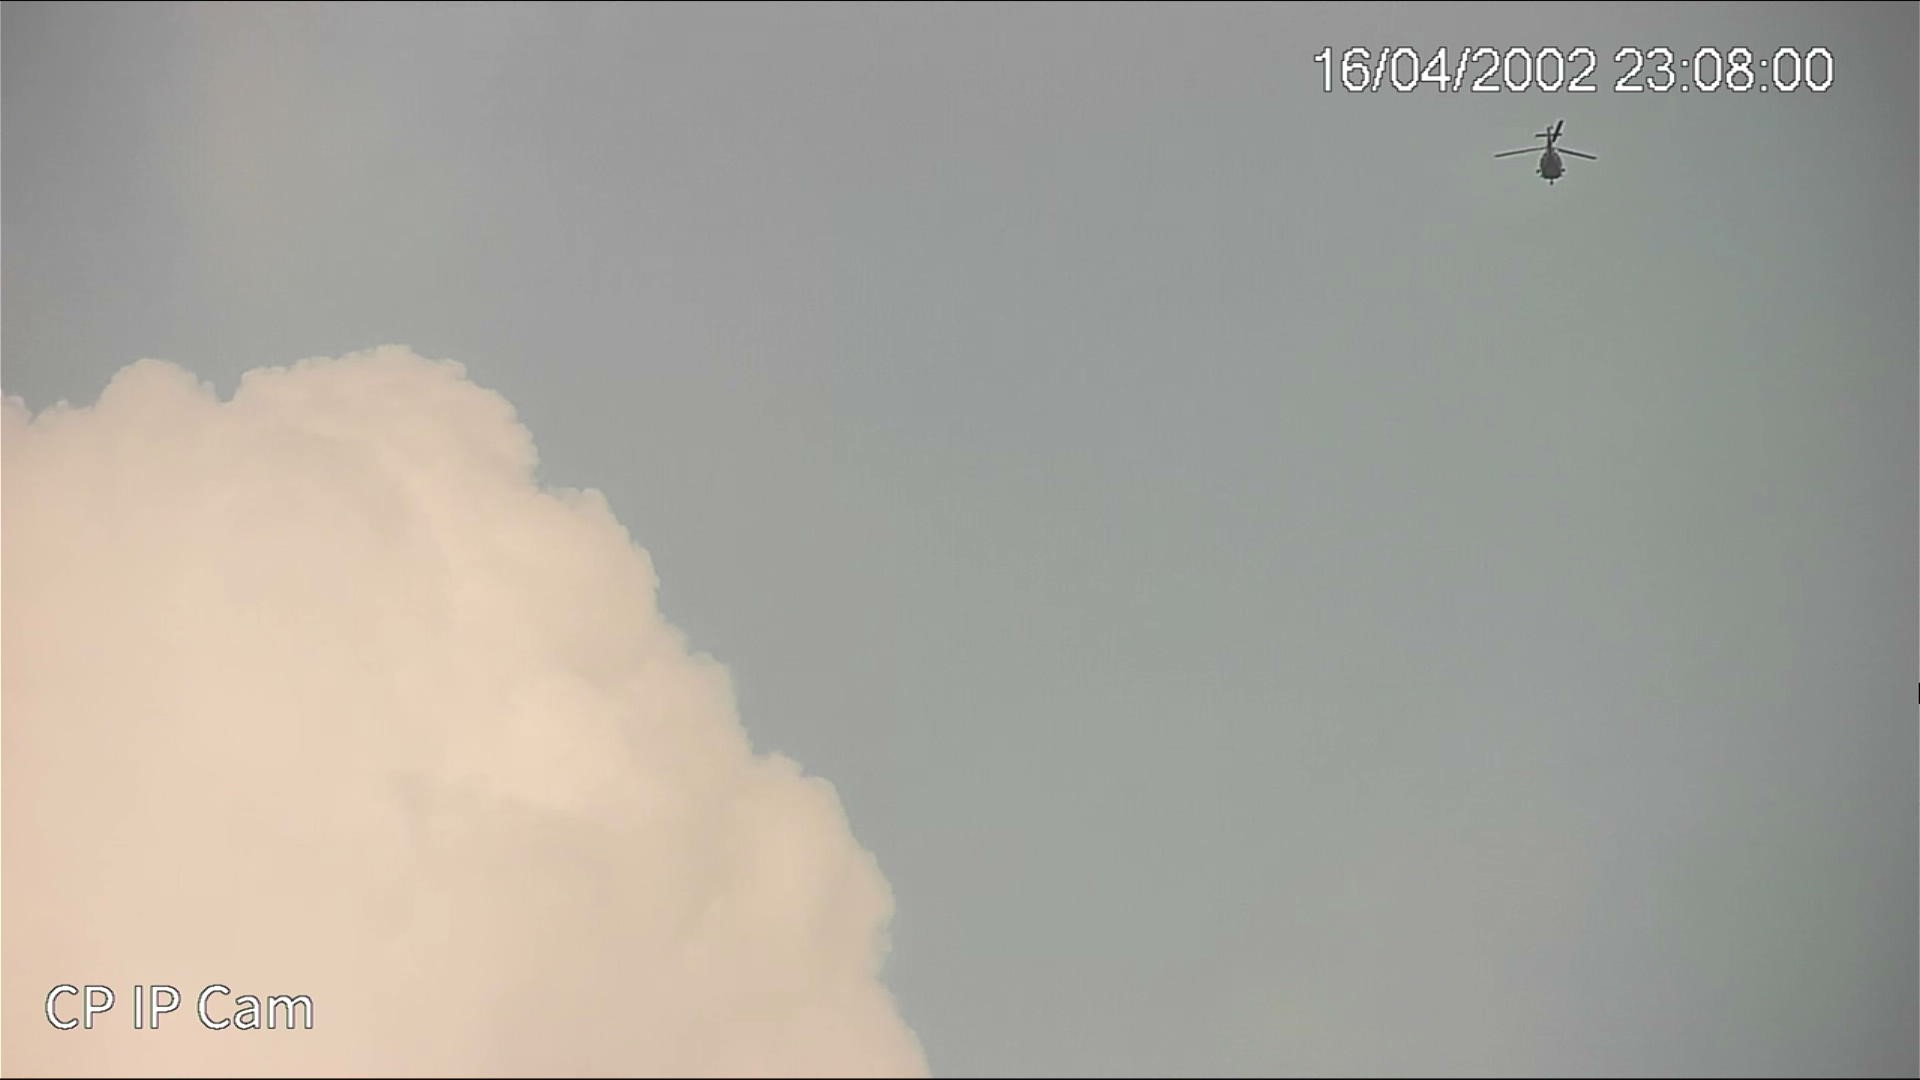SU_30: (1491, 117, 1598, 187)
